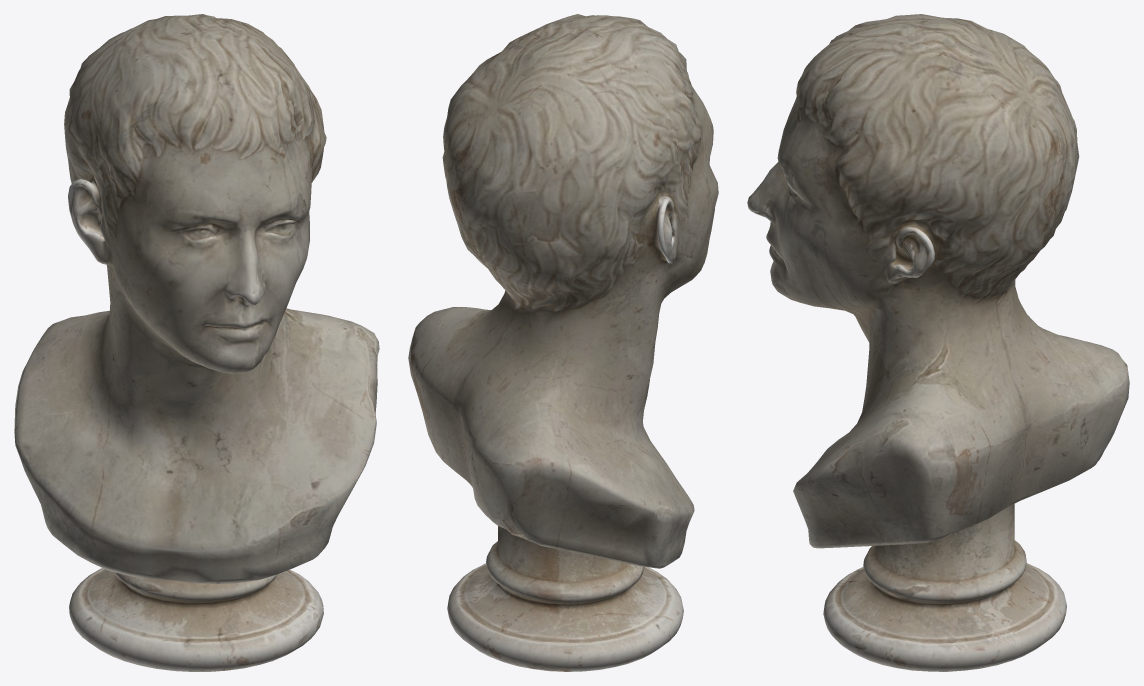
Rendered from busto.glb.
The picture shows the model from 3 angles, left to right: view 1: azimuth 30°, elevation 25°; view 2: azimuth 150°, elevation 25°; view 3: azimuth 270°, elevation 25°; orthographic projection. The views are drawn at different scales.
Parts seen in each view (by area): view 1: bust; view 2: bust; view 3: bust.
Part boxes in pixels (x1,y1,x2,y2): bust: (14, 14, 379, 671); bust: (408, 14, 718, 671); bust: (747, 14, 1129, 671).
Size of the model in its own units: 0.2717 by 0.5149 by 0.2998.
1 material, 1 textured.
